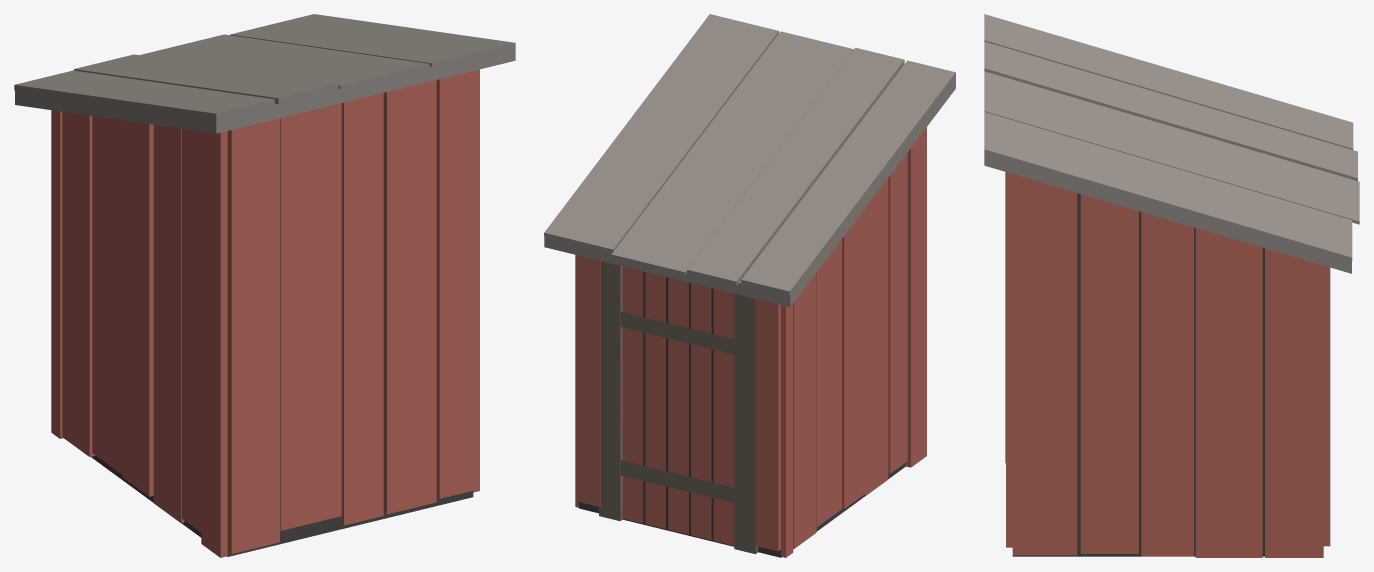
The model's file is recon_1835_north_a3_009__inferred_1835.glb.
The picture shows the model from 3 angles, left to right: view 1: azimuth 30°, elevation 25°; view 2: azimuth 150°, elevation 25°; view 3: azimuth 270°, elevation 25°; orthographic projection. The views are drawn at different scales.
Visible parts, largest first — view 1: recon_1835_north_a3_009__inferred_1835; view 2: recon_1835_north_a3_009__inferred_1835; view 3: recon_1835_north_a3_009__inferred_1835.
Boxes of the visible parts, x1=… form: recon_1835_north_a3_009__inferred_1835: x1=14, y1=14, x2=515, y2=557; recon_1835_north_a3_009__inferred_1835: x1=544, y1=14, x2=955, y2=557; recon_1835_north_a3_009__inferred_1835: x1=984, y1=14, x2=1359, y2=557.
Bounding box in the file's own units: 1.86 × 2.73 × 2.21.
